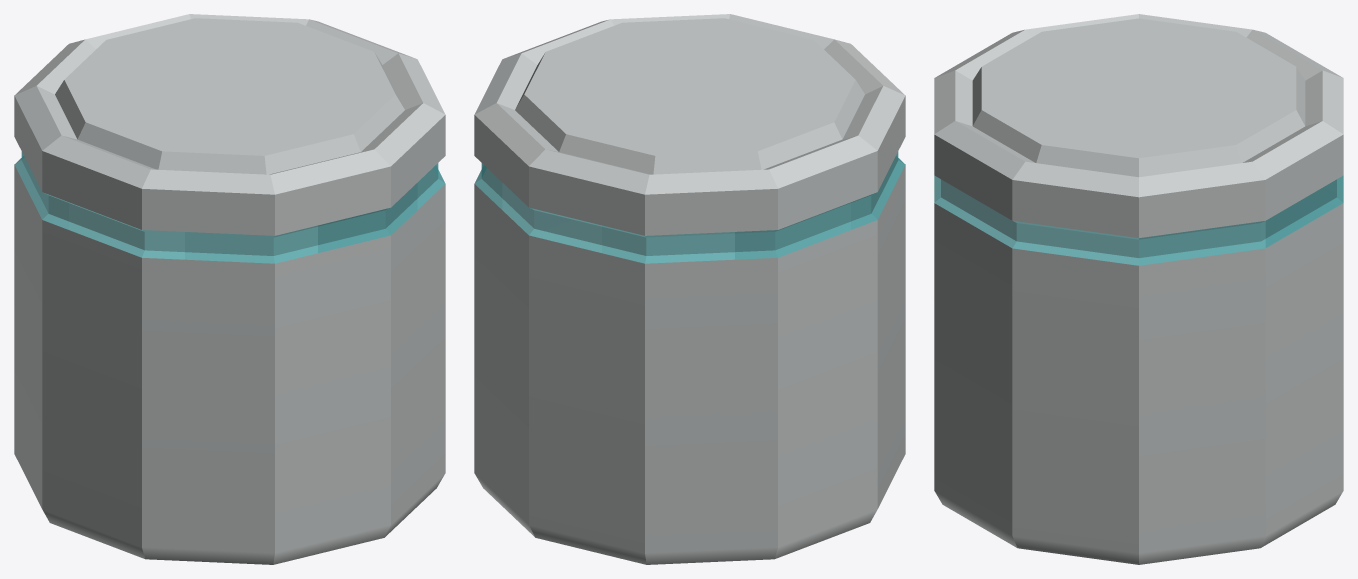
The picture shows the model from 3 angles, left to right: view 1: azimuth 30°, elevation 25°; view 2: azimuth 150°, elevation 25°; view 3: azimuth 270°, elevation 25°; orthographic projection.
Parts seen in each view (by area): view 1: pCylinder1; view 2: pCylinder1; view 3: pCylinder1.
Part boxes in pixels (left/top/right/bottom): pCylinder1: left=14, top=14, right=445, bottom=564; pCylinder1: left=474, top=14, right=905, bottom=564; pCylinder1: left=934, top=14, right=1343, bottom=564.
Bounding box in the file's own units: 10 × 9.98 × 9.51.
